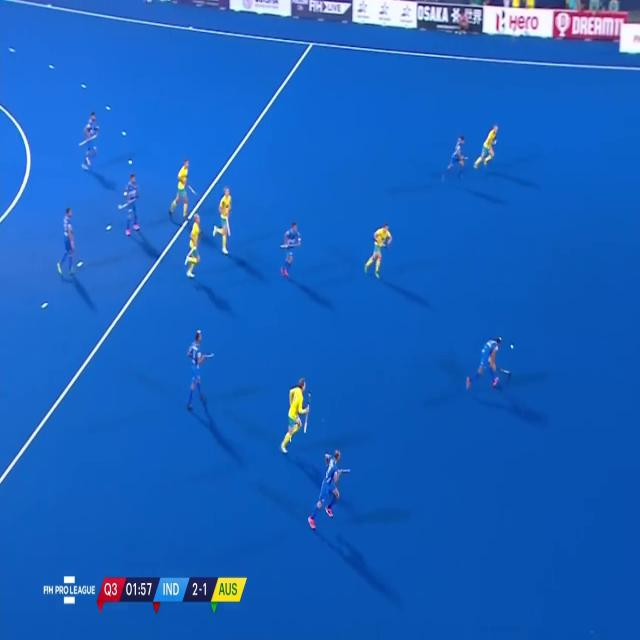ball: (507, 340, 516, 352)
